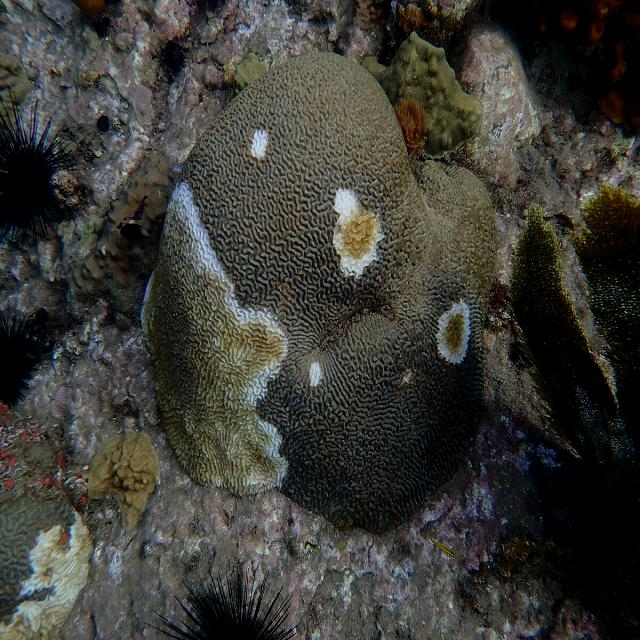Coral: (140, 52, 506, 534), (507, 182, 640, 552), (0, 440, 95, 640), (87, 428, 160, 530)
